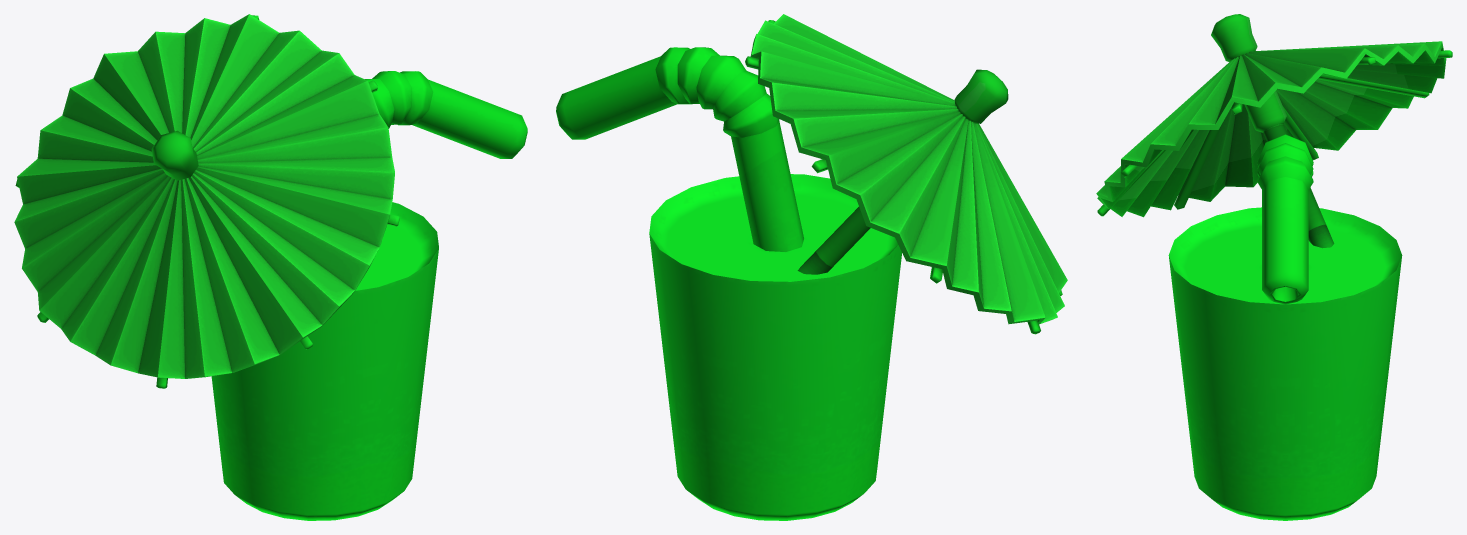
File: Web_Smoothie_Mix_Green.obj
The picture shows the model from 3 angles, left to right: view 1: azimuth 30°, elevation 25°; view 2: azimuth 150°, elevation 25°; view 3: azimuth 270°, elevation 25°; orthographic projection. The views are drawn at different scales.
Parts seen in each view (by area): view 1: m_recipe_megaSmoothie_01(Clone)_0; view 2: m_recipe_megaSmoothie_01(Clone)_0; view 3: m_recipe_megaSmoothie_01(Clone)_0.
Boxes of the visible parts, x1,y1,x2,y2 form: m_recipe_megaSmoothie_01(Clone)_0: [14, 14, 527, 520]; m_recipe_megaSmoothie_01(Clone)_0: [556, 14, 1067, 520]; m_recipe_megaSmoothie_01(Clone)_0: [1096, 14, 1452, 520].
Bounding box in the file's own units: 1.11 × 1.01 × 0.7635.
1 material, 1 textured.
